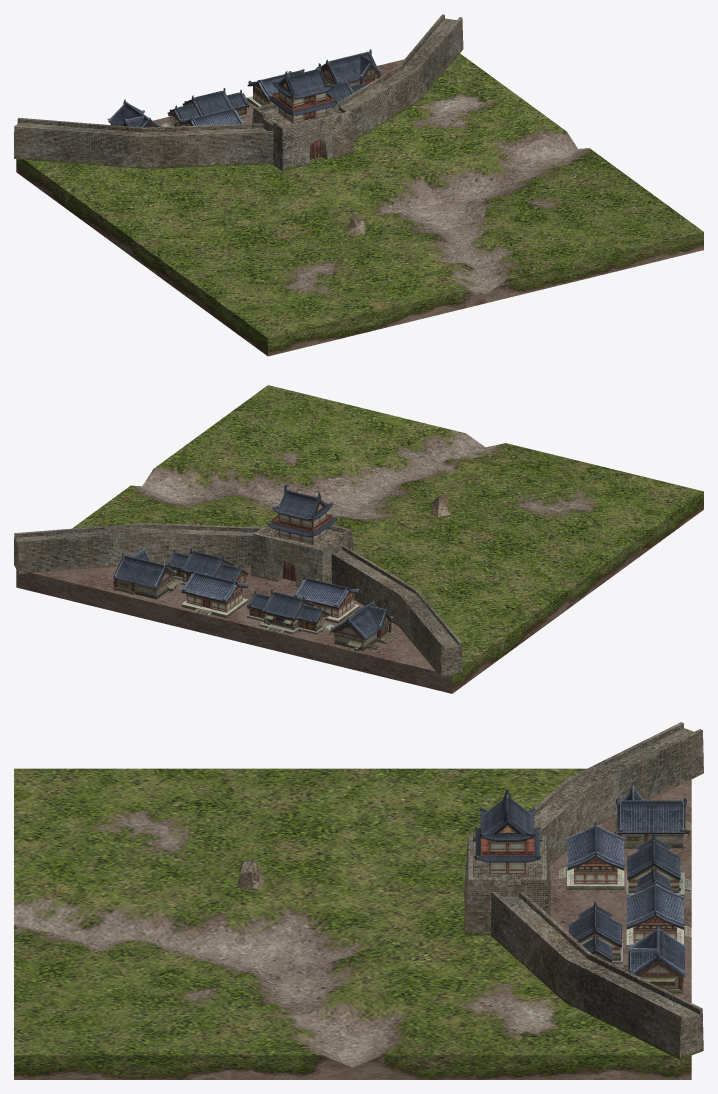
File: map006.FBX
The picture shows the model from 3 angles, top to bottom: view 1: azimuth 30°, elevation 25°; view 2: azimuth 150°, elevation 25°; view 3: azimuth 270°, elevation 25°; orthographic projection. The views are drawn at different scales.
Visible parts, largest first — view 1: map006, Box084, house252, house256, house253, house255; view 2: map006, Box084, house253, house256, house255, house252; view 3: map006, Box084, house255, house256, house253, house252, Box037.
Part boxes in pixels (bbox=[...]): map006: bbox=[16, 53, 703, 356]; Box084: bbox=[14, 14, 463, 171]; house252: bbox=[268, 63, 337, 123]; house256: bbox=[107, 49, 382, 127]; house253: bbox=[159, 78, 367, 126]; house255: bbox=[180, 69, 304, 125]; map006: bbox=[16, 385, 703, 693]; Box084: bbox=[14, 523, 463, 677]; house253: bbox=[163, 548, 334, 634]; house256: bbox=[113, 547, 398, 651]; house255: bbox=[181, 571, 359, 623]; house252: bbox=[268, 484, 336, 544]; map006: bbox=[14, 768, 691, 1079]; Box084: bbox=[464, 722, 703, 1059]; house255: bbox=[559, 822, 691, 948]; house256: bbox=[614, 785, 691, 993]; house253: bbox=[568, 834, 690, 964]; house252: bbox=[474, 789, 540, 873]; Box037: bbox=[237, 859, 264, 889].
Size of the model in its own units: 103 by 22.44 by 102.
